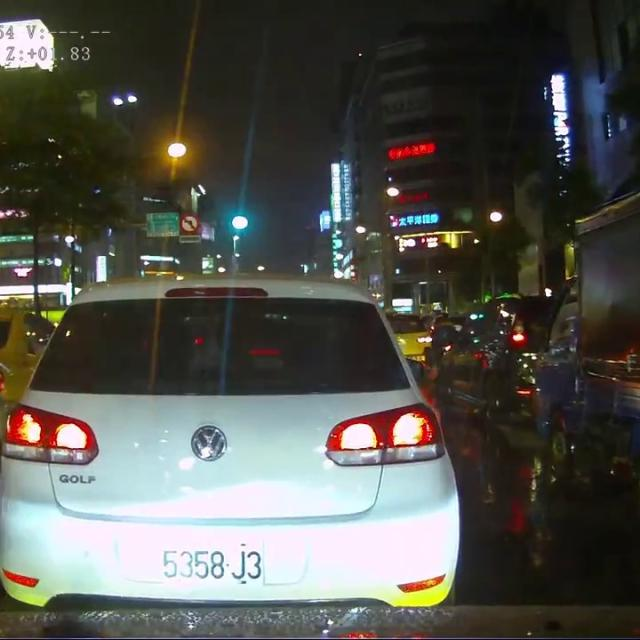Car: (0, 267, 461, 605), (433, 284, 563, 430), (0, 297, 64, 403), (367, 310, 428, 367)
